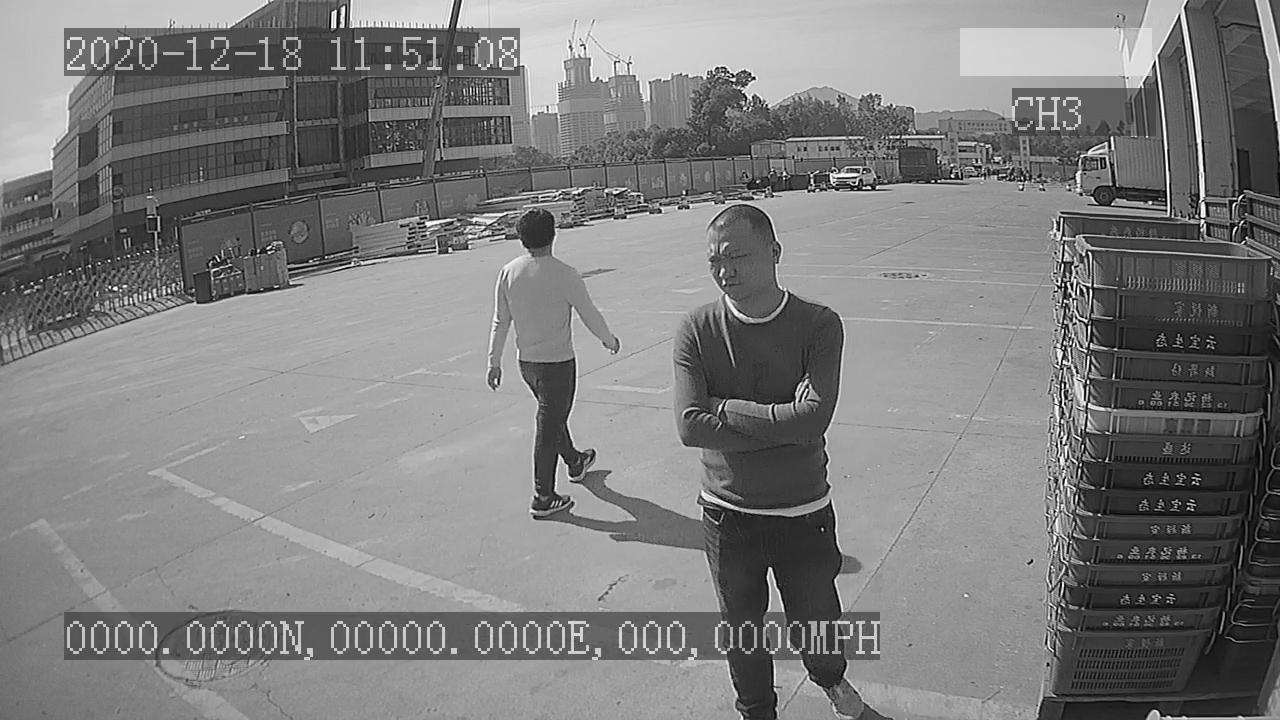person: (479, 204, 627, 522)
